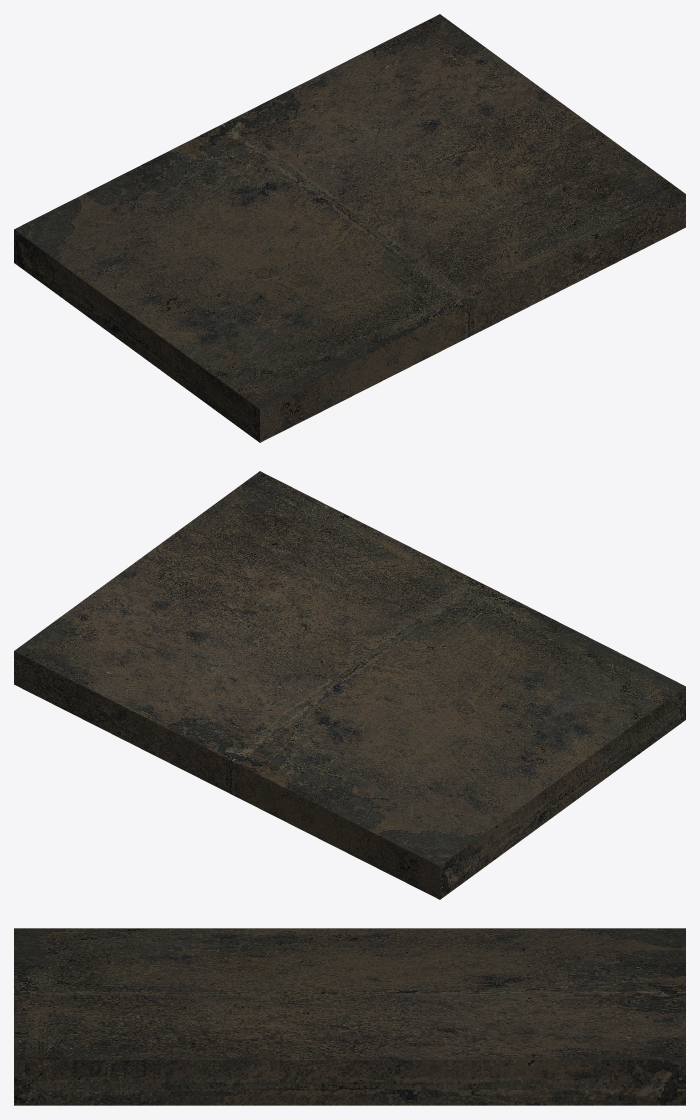
File: floor_ceiling_hs_1.glb
The picture shows the model from 3 angles, top to bottom: view 1: azimuth 30°, elevation 25°; view 2: azimuth 150°, elevation 25°; view 3: azimuth 270°, elevation 25°; orthographic projection. The views are drawn at different scales.
Parts seen in each view (by area): view 1: floor_ceiling_hs_1; view 2: floor_ceiling_hs_1; view 3: floor_ceiling_hs_1.
Boxes of the visible parts, x1,y1,x2,y2 form: floor_ceiling_hs_1: [14, 14, 685, 442]; floor_ceiling_hs_1: [14, 471, 685, 899]; floor_ceiling_hs_1: [14, 928, 685, 1105].
Bounding box in the file's own units: 4 × 1.3 × 4.
Materials: 1 (1 with a texture image).
